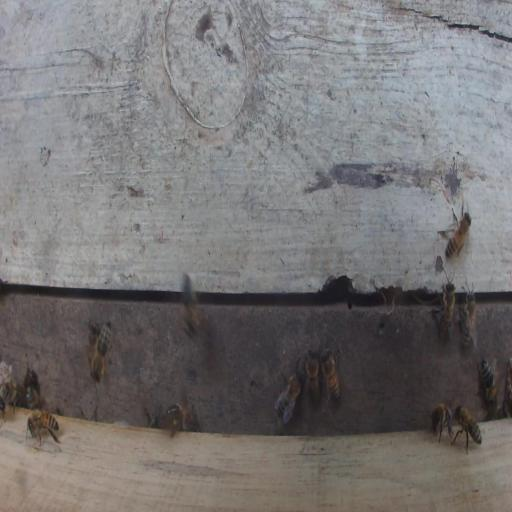bee: (181, 273, 210, 349), (440, 208, 472, 259), (274, 370, 302, 424), (452, 404, 482, 454), (88, 320, 111, 384), (433, 278, 455, 340), (25, 408, 60, 446), (458, 283, 476, 348), (320, 347, 340, 402), (429, 402, 455, 443), (305, 349, 321, 406), (478, 357, 497, 403), (23, 362, 39, 406), (166, 404, 185, 436), (86, 321, 99, 363), (24, 386, 39, 408)
